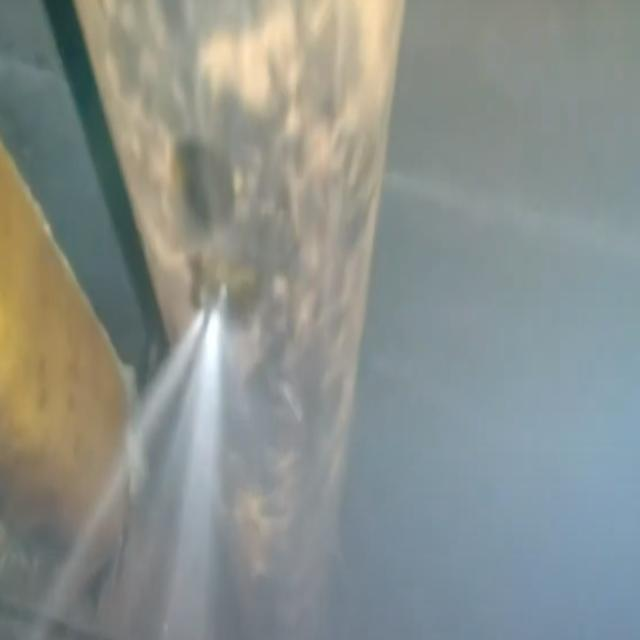leak: (45, 310, 221, 638)
